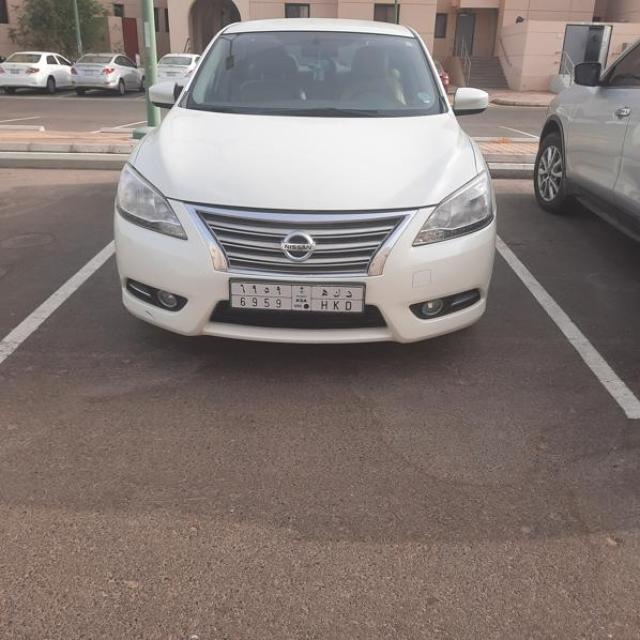license_plate: (230, 276, 368, 318)
